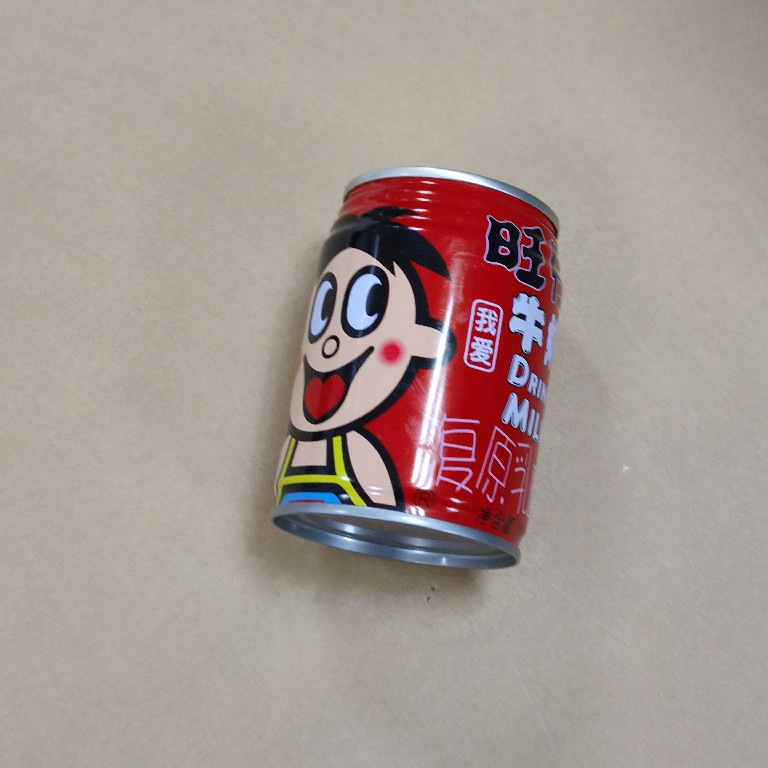can: (263, 158, 568, 575)
